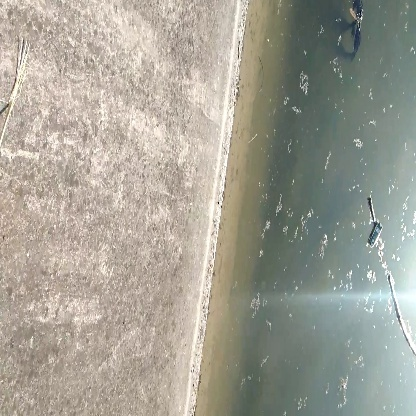branch: (383, 269, 416, 355)
milk-box: (364, 219, 388, 250)
